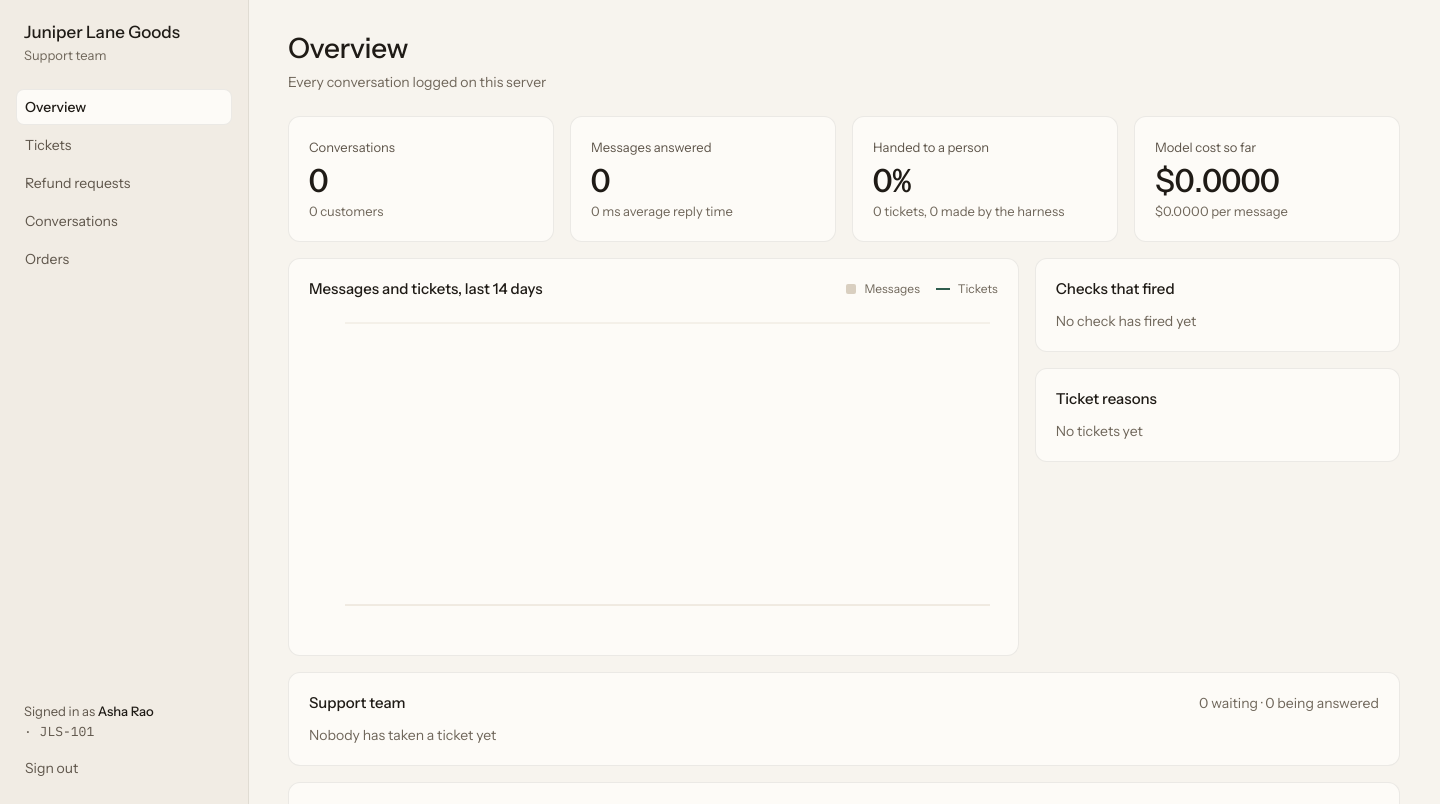
it: refund requests in the admin panel › lists waiting requests first, with the customer and the refund
Expected: the heading "Overview" is shown, [288,31,408,65]
Click the button "Refund requests" at x=124, y=183, box [16,165,232,201]
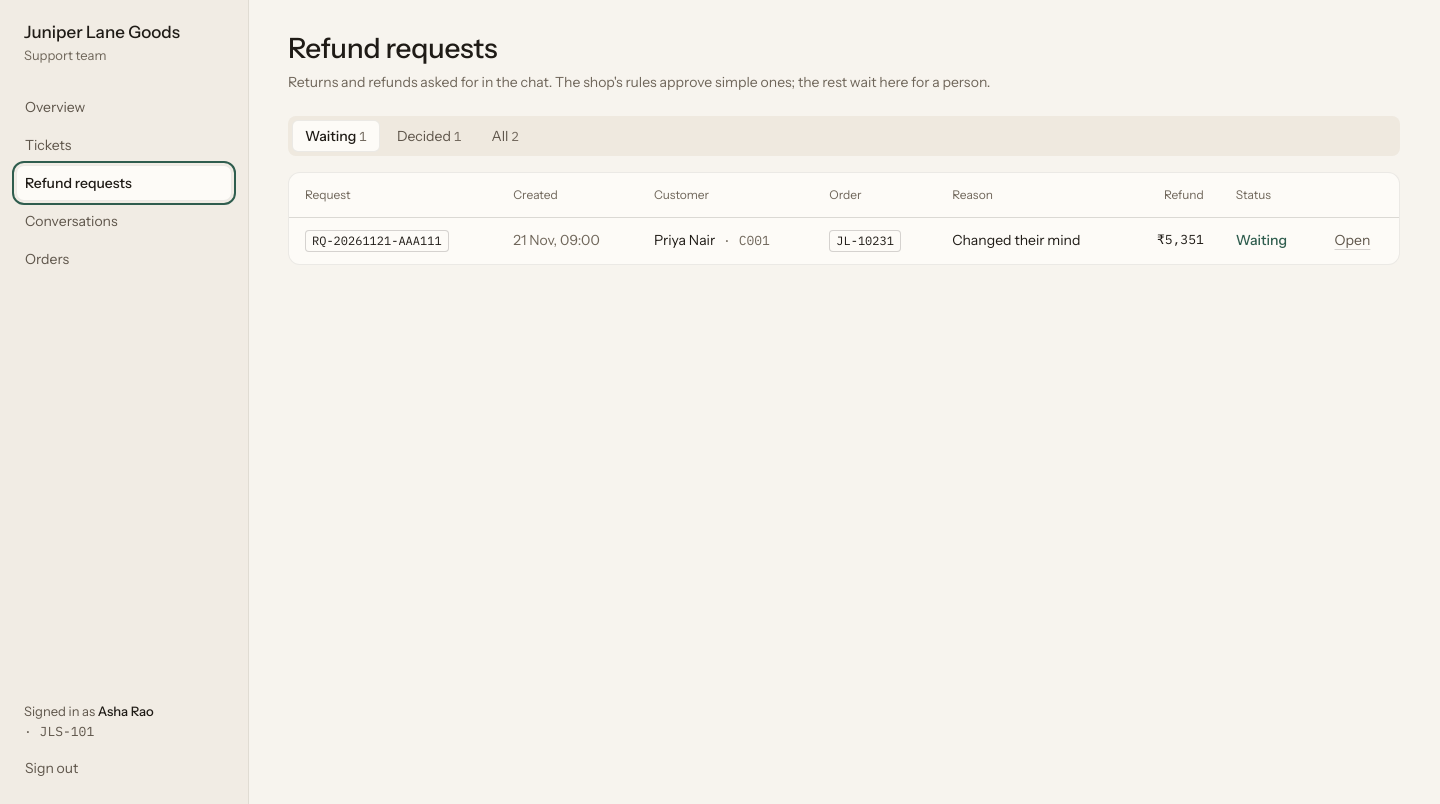
Expected: the row that starts with "RQ-20261121-AAA111" is shown, [312,233,442,248]
Expected: the row that starts with "RQ-20261121-AAA111" shows "₹5,351", [1157,231,1204,248]
Expected: the radio button labelled "Decided 1" is shown, [384,120,474,152]
